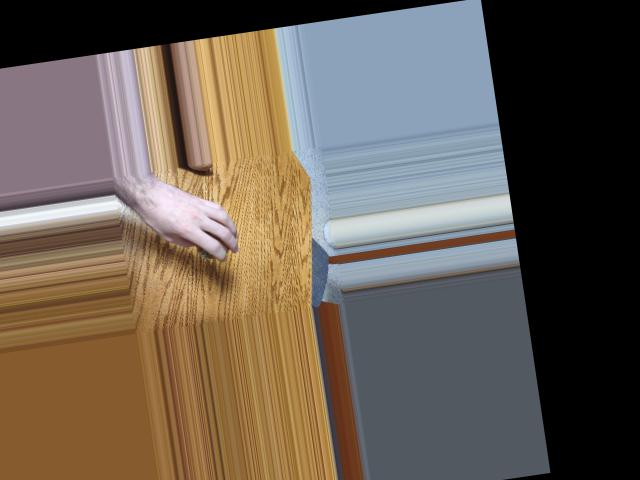onion: (189, 225, 231, 261)
